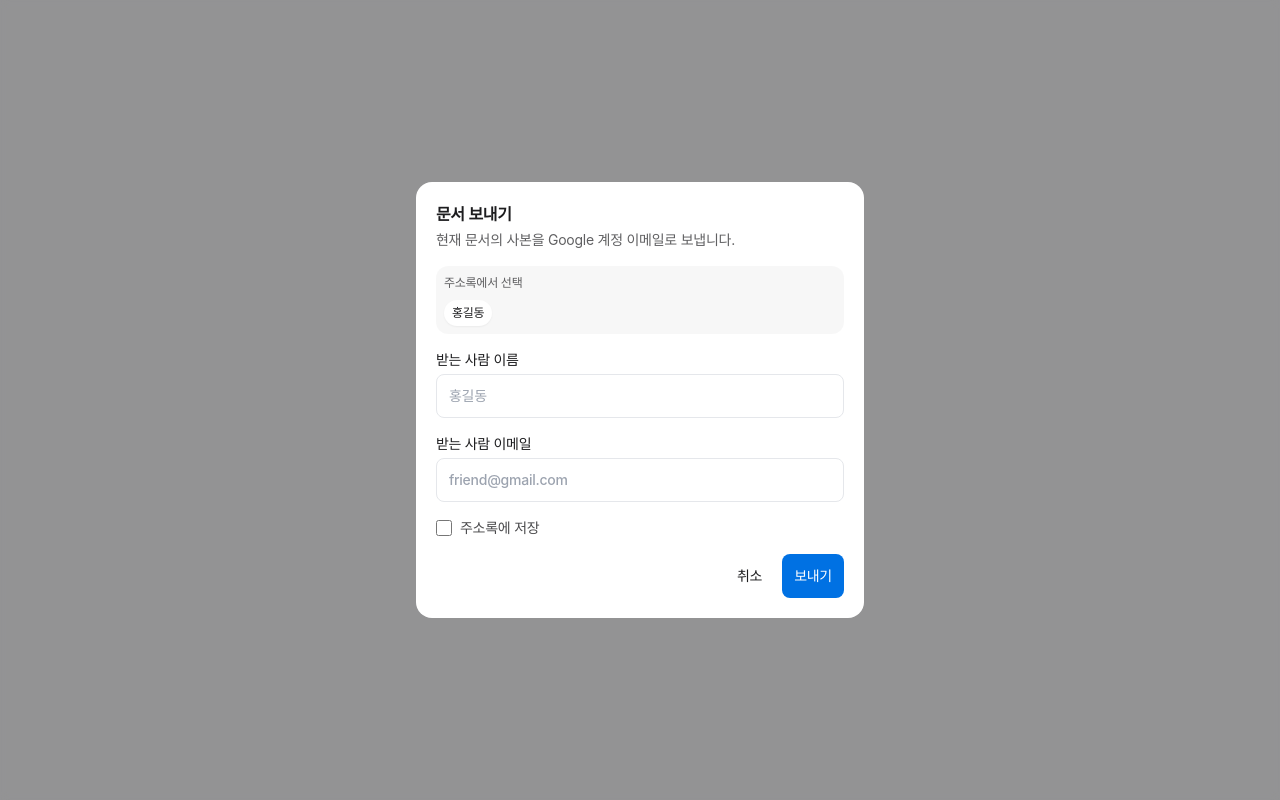
ShareDocumentDialog › selects a recipient from the address book
The image size is (1280, 800).
Click the button named "홍길동 선택": (468, 313) [444,300,492,326]
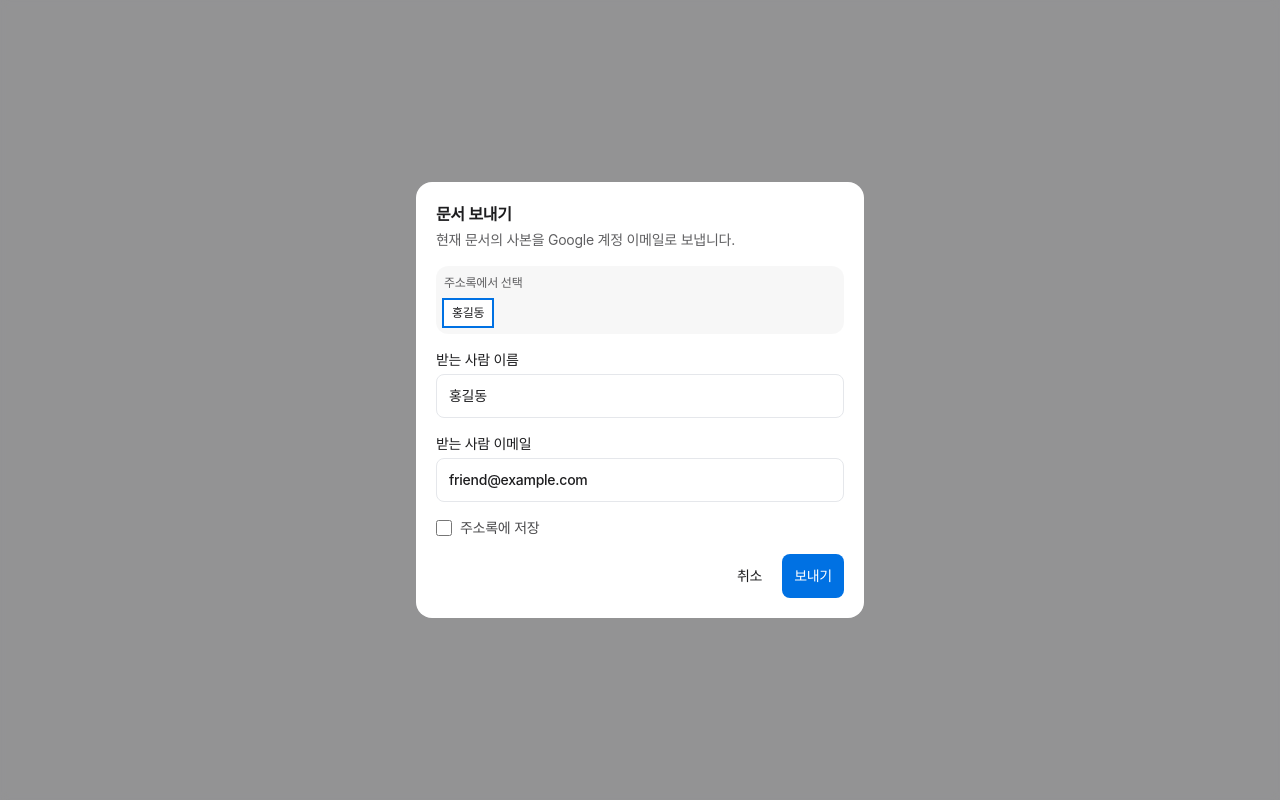
Check: the field named "받는 사람 이메일" holds "friend@example.com", box [436,458,844,502]
